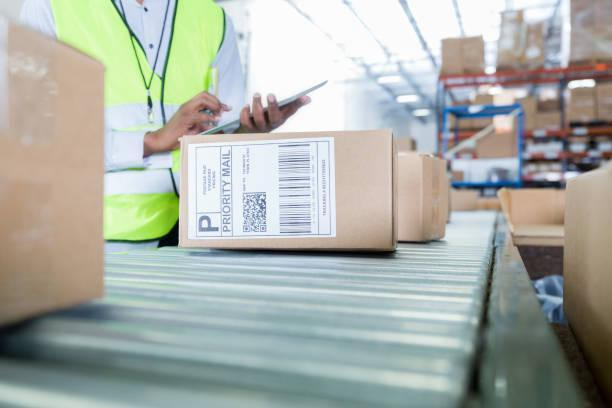qr_code: (242, 192, 267, 232)
